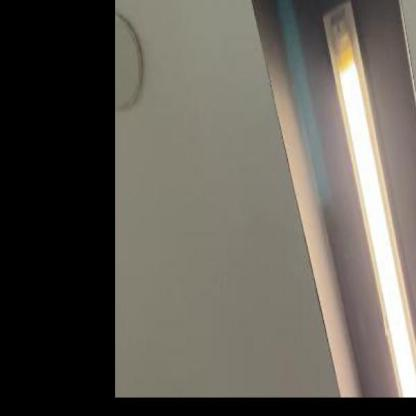light_on: (309, 0, 416, 415)
